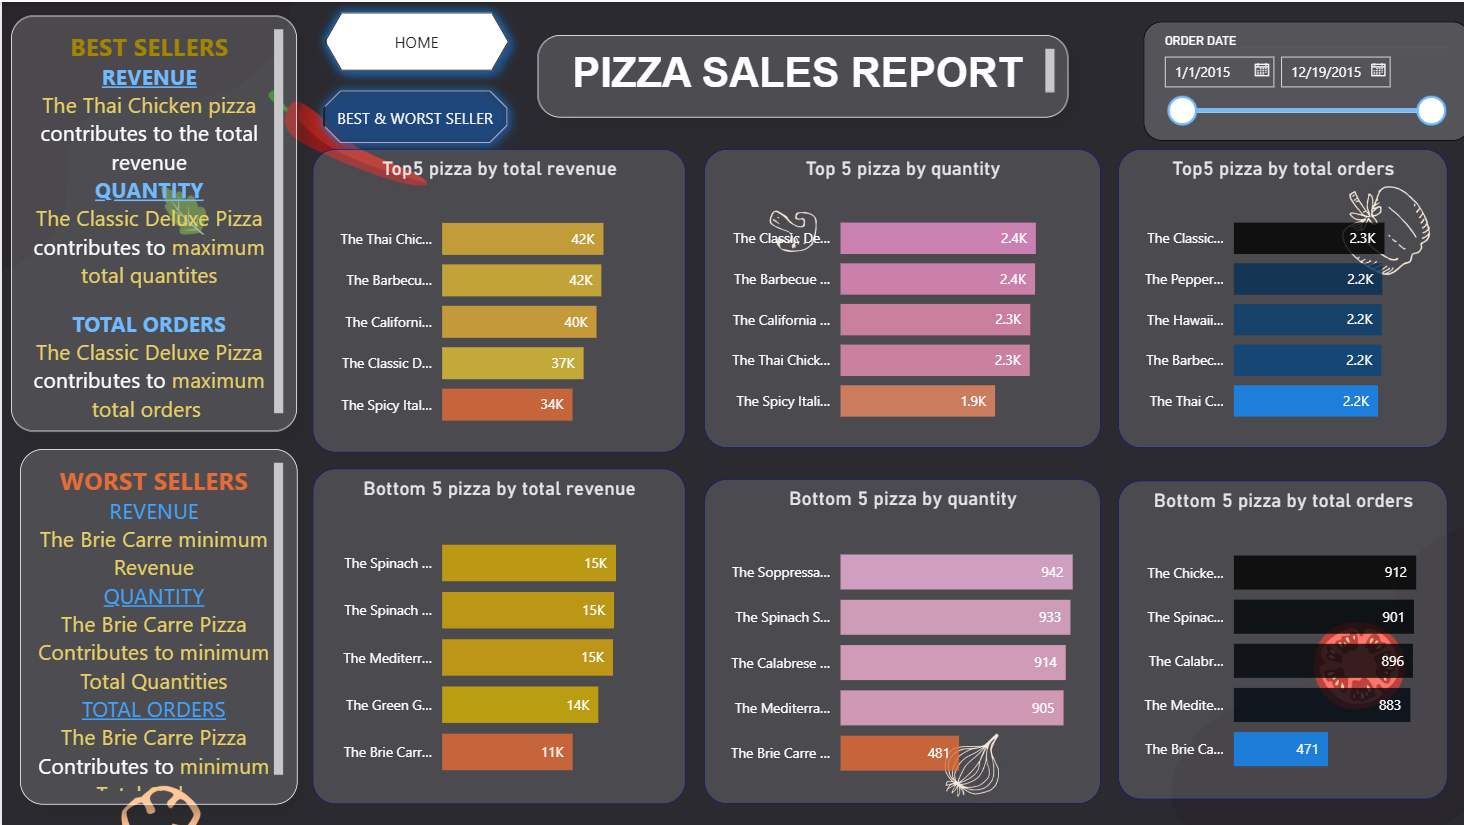

What the dashboard file says about the page in this screenshot:
{"tool":"powerbi","page":{"name":"BEST & WORST SELLER","canvas":[1280,720],"ordinal":1},"visuals":[{"type":"textbox","box":[466.8,28.3,463,71.8],"z":0},{"type":"textbox","box":[7.6,11.3,249.5,362.8],"z":1000},{"type":"textbox","box":[15.1,389.3,241.9,309.9],"z":2000},{"type":"clusteredBarChart","title":" Top5 pizza by total revenue","fields":{"Category":["pizza_sales.pizza_name"],"Y":["pizza_sales.Total Revenue"]},"box":[270.2,128.5,325,264.6],"z":3000},{"type":"clusteredBarChart","title":"Bottom 5 pizza by total revenue","fields":{"Category":["pizza_sales.pizza_name"],"Y":["pizza_sales.Total Revenue"]},"box":[270.2,406.3,325,292.9],"z":4000},{"type":"clusteredBarChart","title":"Top 5 pizza by quantity","fields":{"Category":["pizza_sales.pizza_name"],"Y":["pizza_sales.Total pizza sold"]},"box":[612.3,128.5,345.8,260.8],"z":5000},{"type":"clusteredBarChart","title":"Bottom 5 pizza by quantity","fields":{"Category":["pizza_sales.pizza_name"],"Y":["pizza_sales.Total pizza sold"]},"box":[612.3,415.8,345.8,283.5],"z":6000},{"type":"clusteredBarChart","title":"Top5 pizza by total  orders","fields":{"Category":["pizza_sales.pizza_name"],"Y":["pizza_sales.Total orders"]},"box":[973.2,128.5,287.2,260.8],"z":7000},{"type":"clusteredBarChart","title":"Bottom 5 pizza by total  orders","fields":{"Category":["pizza_sales.pizza_name"],"Y":["pizza_sales.Total orders"]},"box":[973.2,417.6,287.2,277.8],"z":8000},{"type":"slicer","fields":{"Values":["pizza_sales.order_date"]},"box":[994.8,16.7,285.4,103.9],"z":9000},{"type":"pageNavigator","box":[270.2,68,179.5,64.3],"z":10000},{"type":"pageNavigator","box":[272.1,0,179.5,69.9],"z":11000}]}

Visuals, with their boxes in screenshot pixels (x1, y1, x2, y2), scaled from the page's 1280x720 canvas onto the 1464x825 screenshot:
textbox: Rect(534, 32, 1063, 115)
textbox: Rect(9, 13, 294, 429)
textbox: Rect(17, 446, 294, 801)
" Top5 pizza by total revenue" clusteredBarChart: Rect(309, 147, 681, 450)
"Bottom 5 pizza by total revenue" clusteredBarChart: Rect(309, 466, 681, 801)
"Top 5 pizza by quantity" clusteredBarChart: Rect(700, 147, 1096, 446)
"Bottom 5 pizza by quantity" clusteredBarChart: Rect(700, 476, 1096, 801)
"Top5 pizza by total  orders" clusteredBarChart: Rect(1113, 147, 1442, 446)
"Bottom 5 pizza by total  orders" clusteredBarChart: Rect(1113, 478, 1442, 797)
slicer - pizza_sales.order_date: Rect(1138, 19, 1463, 138)
pageNavigator: Rect(309, 78, 514, 152)
pageNavigator: Rect(311, 0, 517, 80)
